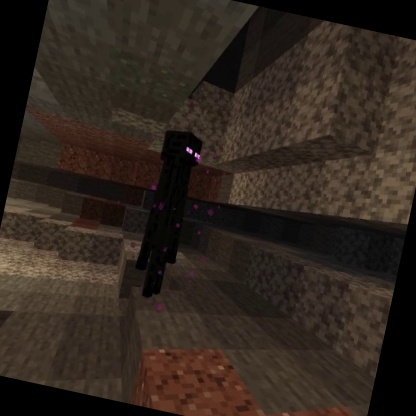enderman: (125, 122, 209, 306)
